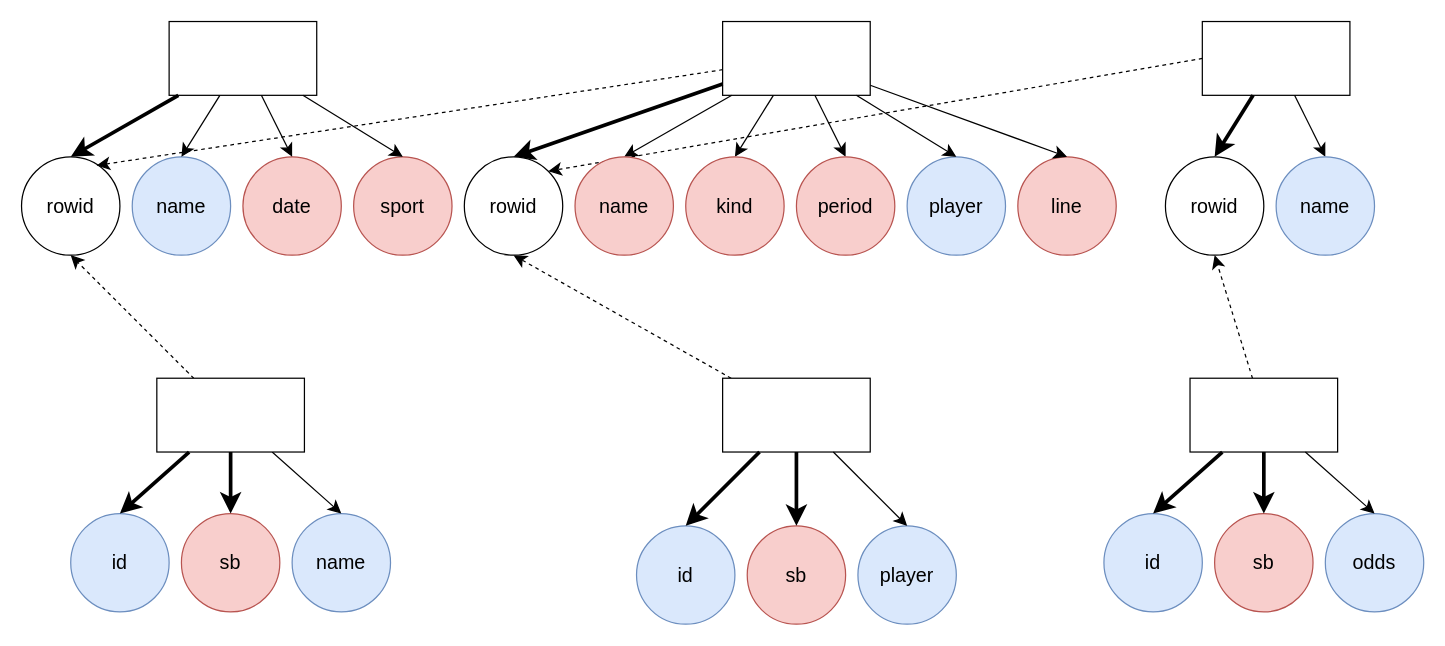
This 1445x646 diagram has some shape labels left out. Each missing label, with the centre of its shape:
"events" belongs at (x=242, y=57).
"markets" belongs at (x=795, y=57).
"sb_events" belongs at (x=230, y=414).
"sb_markets" belongs at (x=795, y=414).
"sb_selections" belongs at (x=1263, y=414).
"selections" belongs at (x=1275, y=57).
